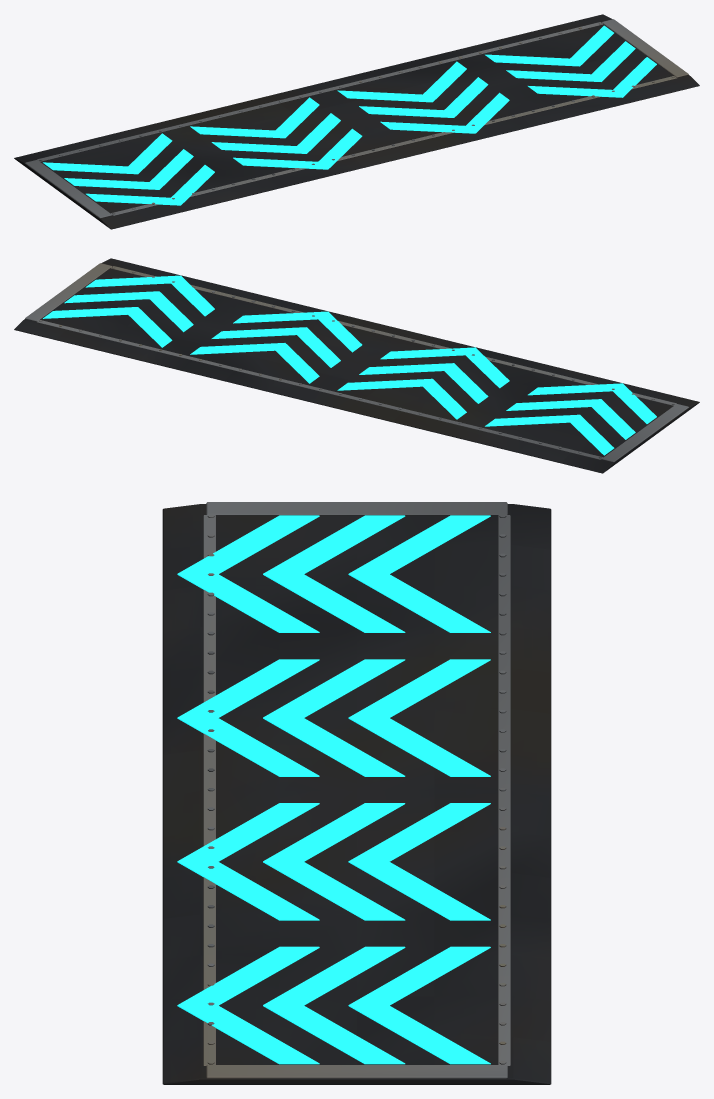
Rendered from speed_boost_pad.glb.
3 renders of one model, top to bottom at view 1: azimuth 30°, elevation 25°; view 2: azimuth 150°, elevation 25°; view 3: azimuth 270°, elevation 25°, orthographic. The views are drawn at different scales.
Visible parts, largest first — view 1: metal_dark, light_boost, metal_bare; view 2: metal_dark, light_boost, metal_bare; view 3: metal_dark, light_boost, metal_bare.
Part boxes in pixels (x1,y1,x2,y2): metal_dark: [14, 14, 699, 229]; light_boost: [43, 25, 656, 205]; metal_bare: [25, 19, 688, 218]; metal_dark: [14, 258, 699, 473]; light_boost: [43, 275, 656, 455]; metal_bare: [25, 263, 688, 462]; metal_dark: [162, 504, 551, 1084]; light_boost: [177, 515, 490, 1064]; metal_bare: [203, 502, 510, 1078].
Size of what is drawn, in the model's own units: 14 by 0.097 by 4.
